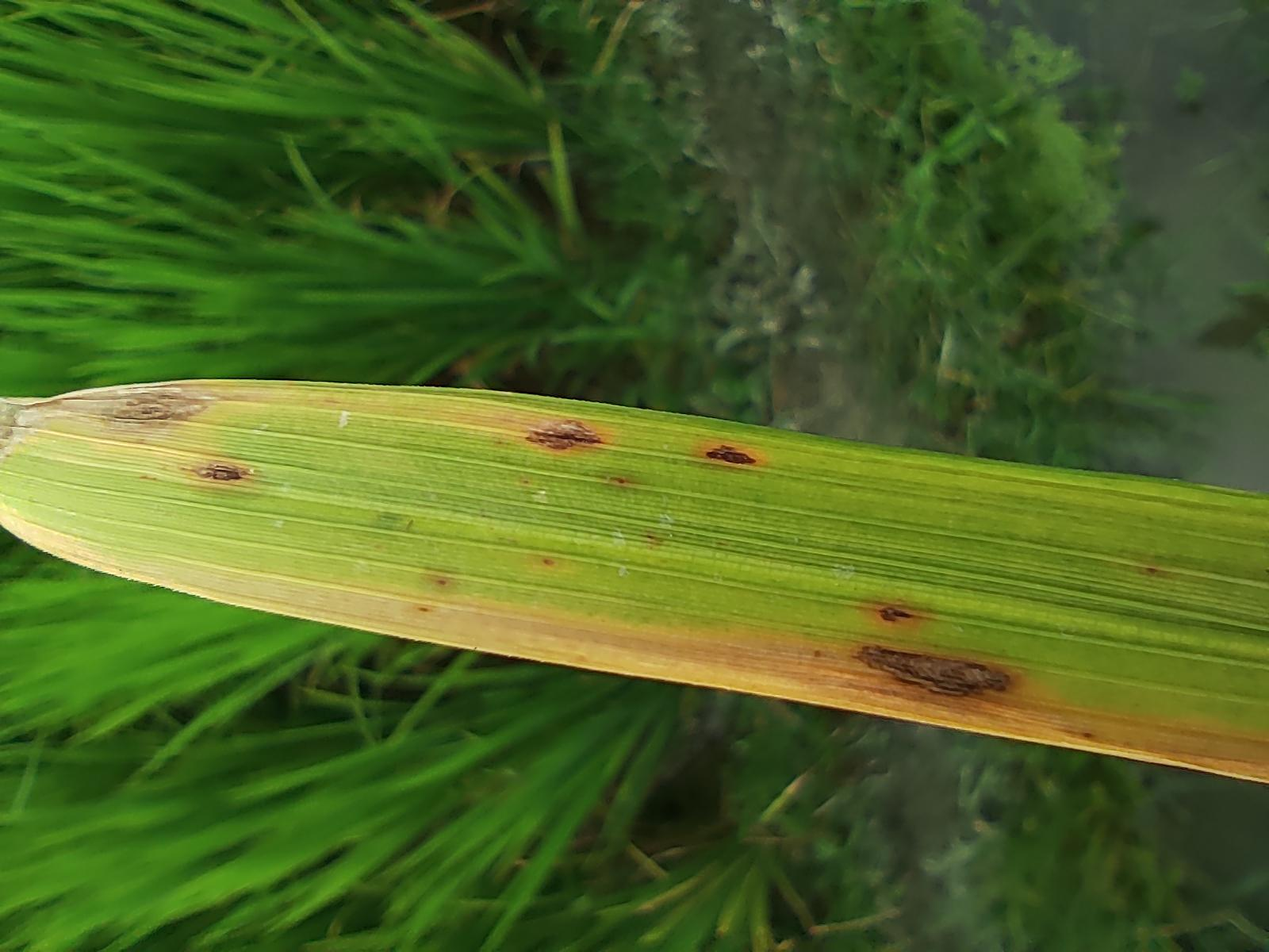LEAF: (225, 0, 762, 951)
NBS: (339, 637, 407, 757), (665, 391, 711, 453), (627, 129, 653, 187), (649, 529, 676, 568), (440, 657, 461, 685), (485, 324, 505, 339), (501, 854, 512, 871), (514, 405, 527, 417), (622, 458, 635, 469), (623, 389, 629, 397), (550, 485, 555, 490)
